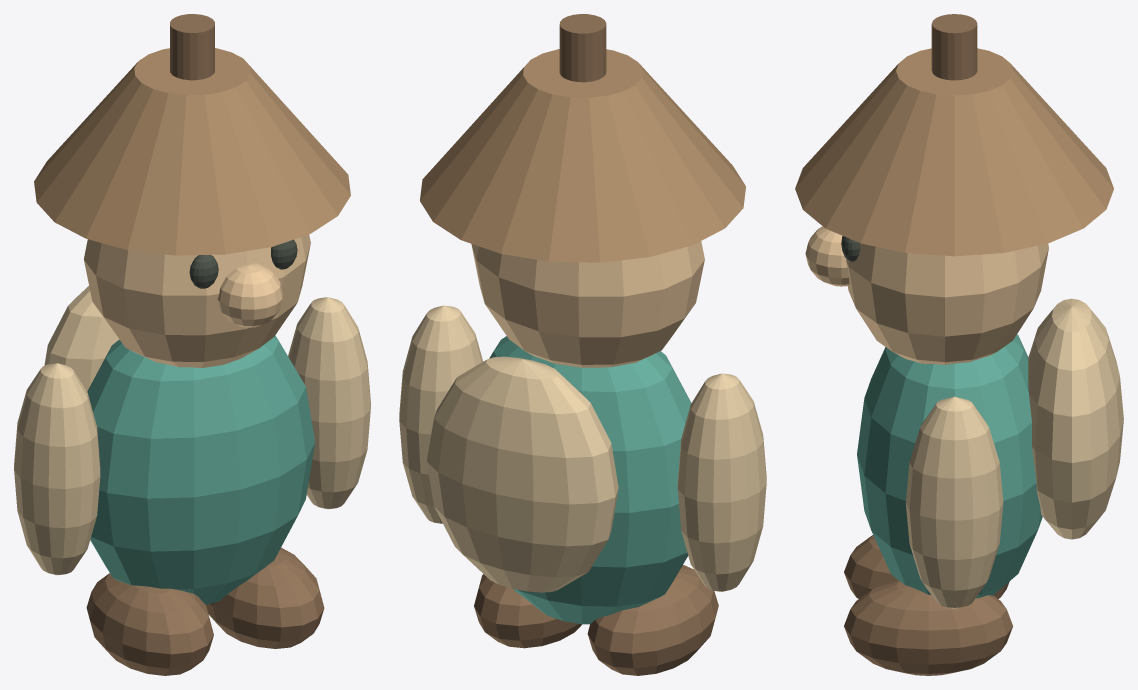
The model's file is worker.glb.
3 views of the same model, side by side, from view 1: azimuth 30°, elevation 25°; view 2: azimuth 150°, elevation 25°; view 3: azimuth 270°, elevation 25° (orthographic). The views are drawn at different scales.
Visible parts, largest first — view 1: Tunique, Chapeau gland, Visage, Bras.001, Bras, Chaussure.001, Chaussure, Sac à dos, Nez, Tige du gland, Œil, Œil.001; view 2: Chapeau gland, Sac à dos, Tunique, Visage, Bras.001, Bras, Chaussure.001, Chaussure, Tige du gland; view 3: Chapeau gland, Tunique, Visage, Sac à dos, Bras, Chaussure, Tige du gland, Chaussure.001, Nez.
Boxes of the visible parts, left/top/right/bottom form: Tunique: left=87, top=335, right=315, bottom=604; Chapeau gland: left=34, top=48, right=350, bottom=255; Visage: left=84, top=234, right=310, bottom=367; Bras.001: left=14, top=363, right=100, bottom=575; Bras: left=288, top=297, right=370, bottom=509; Chaussure.001: left=86, top=573, right=213, bottom=675; Chaussure: left=206, top=547, right=324, bottom=648; Sac à dos: left=44, top=286, right=119, bottom=391; Nez: left=217, top=263, right=282, bottom=327; Tige du gland: left=170, top=14, right=214, bottom=80; Œil: left=189, top=255, right=218, bottom=288; Œil.001: left=271, top=239, right=297, bottom=269; Chapeau gland: left=420, top=49, right=745, bottom=262; Sac à dos: left=426, top=356, right=618, bottom=592; Tunique: left=489, top=336, right=691, bottom=624; Visage: left=471, top=241, right=704, bottom=367; Bras.001: left=677, top=373, right=766, bottom=591; Bras: left=399, top=305, right=483, bottom=523; Chaussure.001: left=587, top=565, right=718, bottom=675; Chaussure: left=474, top=574, right=581, bottom=648; Tige du gland: left=559, top=14, right=606, bottom=82; Chapeau gland: left=795, top=48, right=1113, bottom=256; Tunique: left=857, top=334, right=1042, bottom=598; Visage: left=846, top=243, right=1048, bottom=364; Sac à dos: left=1028, top=298, right=1123, bottom=539; Bras: left=905, top=396, right=1003, bottom=608; Chaussure: left=844, top=580, right=1012, bottom=675; Tige du gland: left=931, top=14, right=977, bottom=80; Chaussure.001: left=844, top=535, right=1009, bottom=598; Nez: left=805, top=226, right=849, bottom=286.
Bounding box in the file's own units: 0.61 × 1.05 × 0.505.
